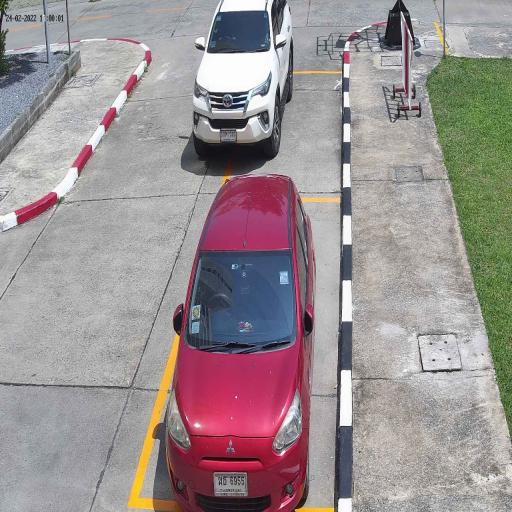car: (164, 172, 318, 512), (192, 0, 294, 158)
